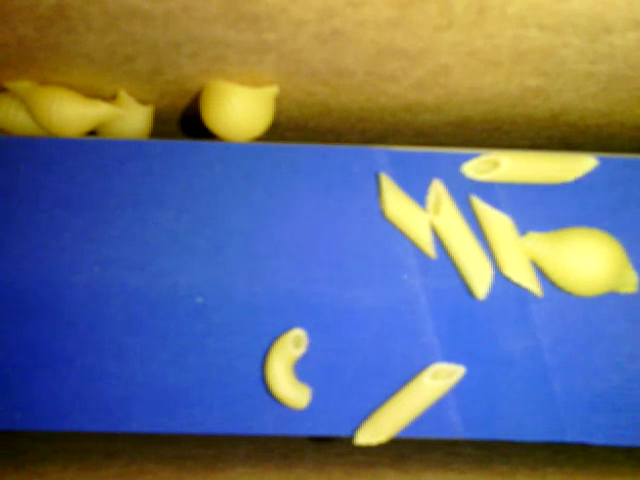elbow: (260, 326, 312, 410)
penne: (353, 357, 467, 446), (426, 177, 492, 303), (469, 193, 540, 297), (457, 150, 601, 186), (378, 170, 432, 257)
shell: (518, 220, 637, 296), (1, 74, 131, 141), (197, 79, 275, 140), (93, 89, 156, 143), (1, 91, 52, 137)
